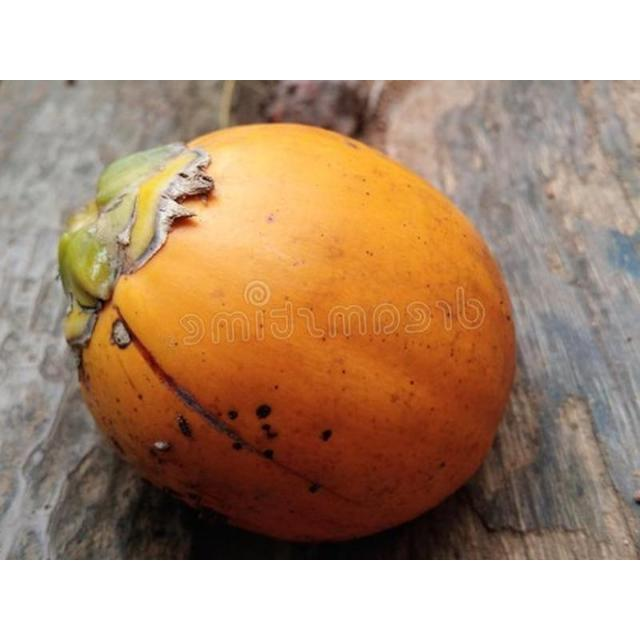good: (57, 123, 518, 557)
